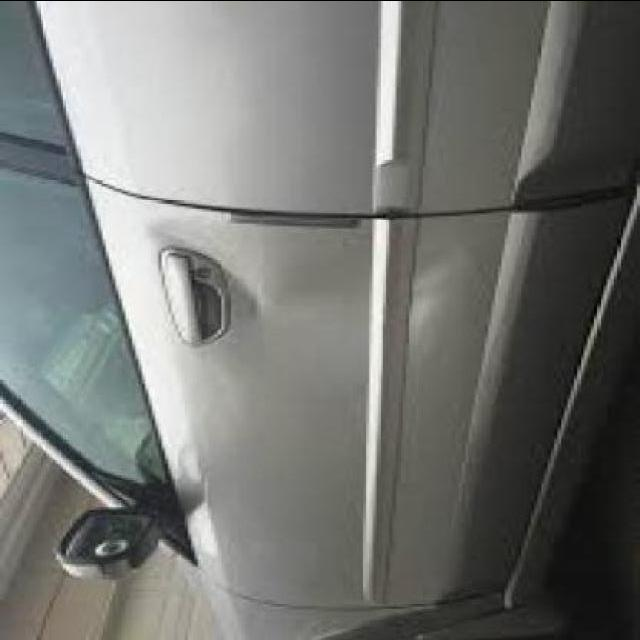doorouter-dent: (122, 152, 601, 392)
